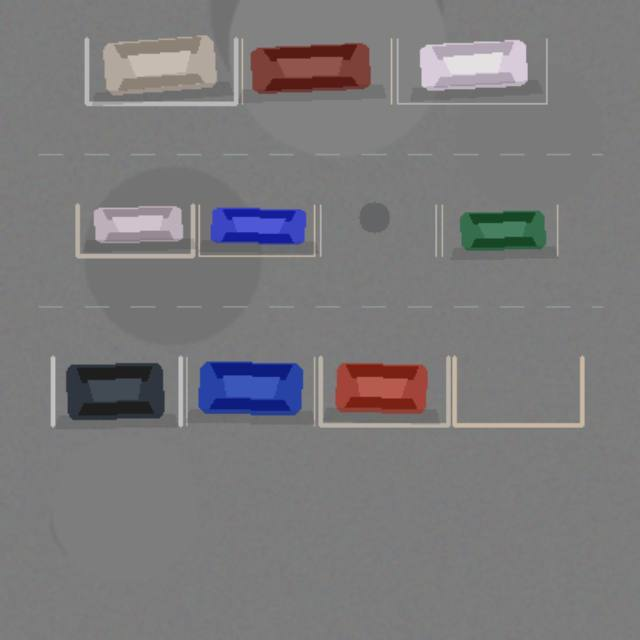space-empty: (454, 357, 582, 425), (320, 205, 435, 255)
space-occupied: (86, 38, 235, 103), (242, 38, 391, 103), (397, 38, 546, 103), (52, 357, 180, 425), (186, 357, 314, 425), (320, 357, 448, 425), (198, 205, 314, 255), (77, 205, 192, 255), (442, 205, 557, 255)
